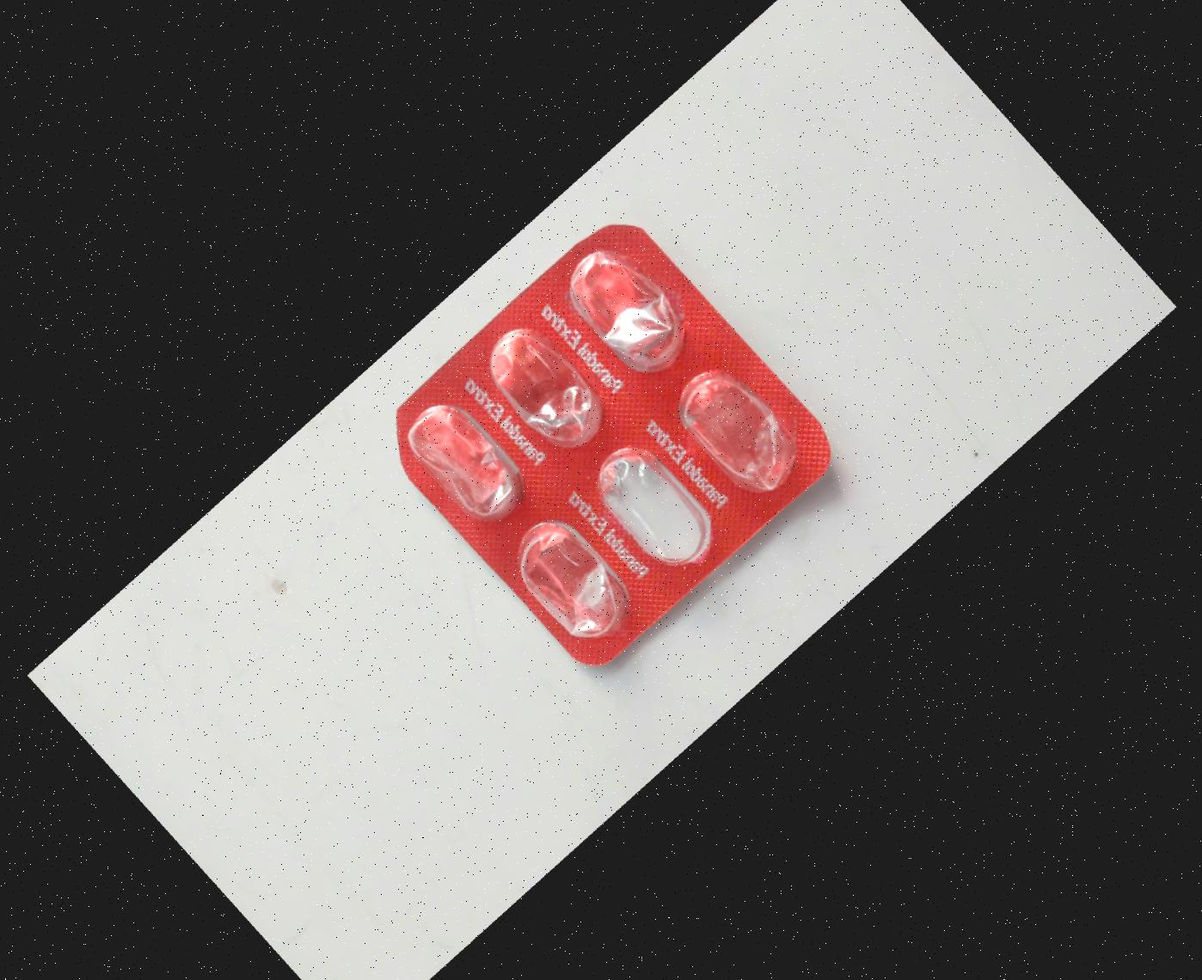Empty: (489, 498, 652, 664), (546, 225, 709, 390), (463, 304, 626, 469), (383, 376, 546, 541), (657, 347, 820, 512), (571, 423, 734, 588)
